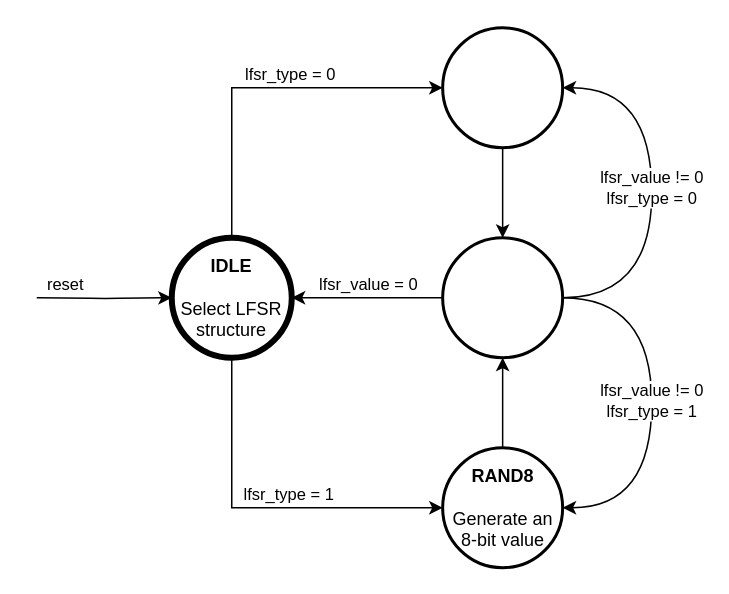
Image size: 729x594. Some labels were removed from this diagram. Each missing label, with the box of its shape:
INFO Send value to UART: (440, 236, 563, 358)
RAND4 Generate a 4-bit value: (440, 26, 563, 148)
